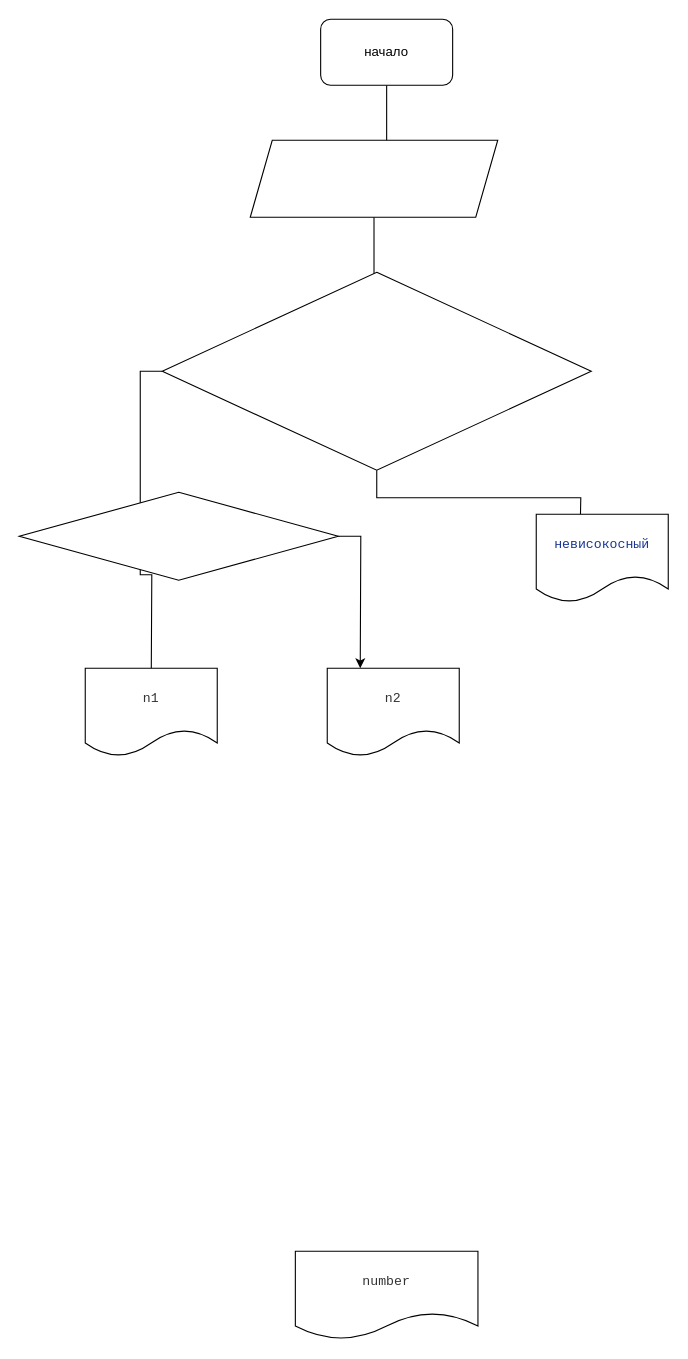
This 688x1359 diagram has some shape labels left out. The shapes that lost their labels are listed below. From the top down, each one's centre as x and y in pixels, then its label:
At point 373,178: "n1 , n2 , n3".
At point 376,370: "n2 < n1 < n3 or n3 < n1 < n2".
At point 178,535: "n1 < n2 < n3 or n3 < n2 < n1".
